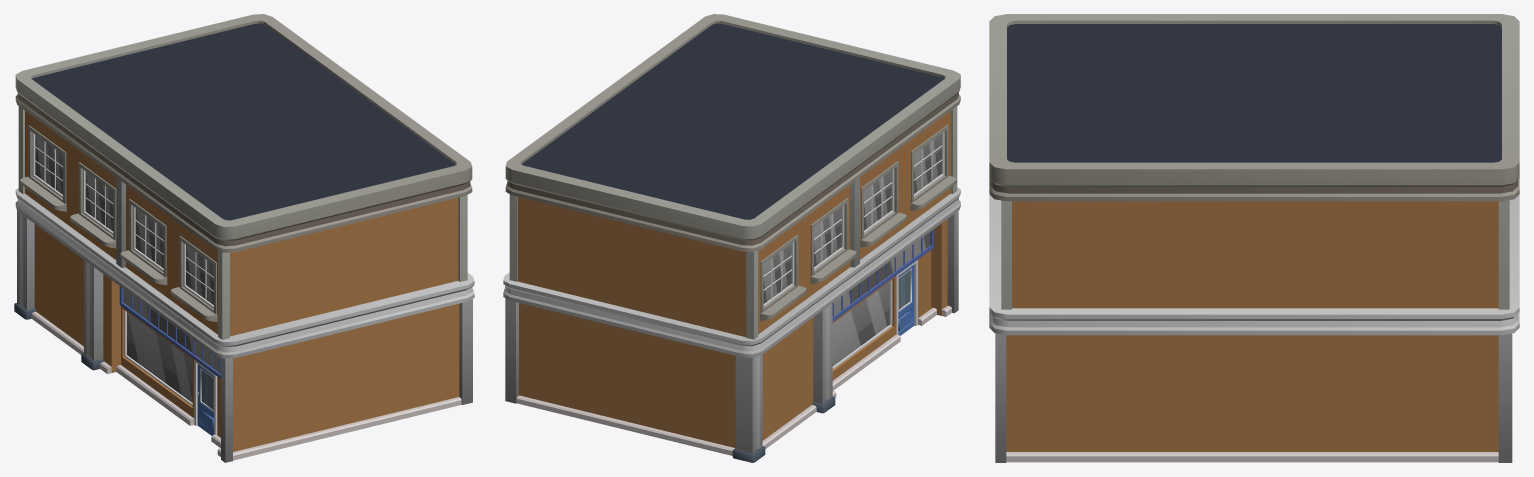
Rendered from Building_11_2_H.fbx.
3 views of the same model, side by side, from view 1: azimuth 30°, elevation 25°; view 2: azimuth 150°, elevation 25°; view 3: azimuth 270°, elevation 25° (orthographic). The views are drawn at different scales.
Parts seen in each view (by area): view 1: Building_11_2_H; view 2: Building_11_2_H; view 3: Building_11_2_H.
Boxes of the visible parts, x1=… form: Building_11_2_H: x1=14, y1=14, x2=474, y2=462; Building_11_2_H: x1=503, y1=14, x2=960, y2=462; Building_11_2_H: x1=989, y1=14, x2=1519, y2=462.
Bounding box in the file's own units: 827 × 714 × 1163.
